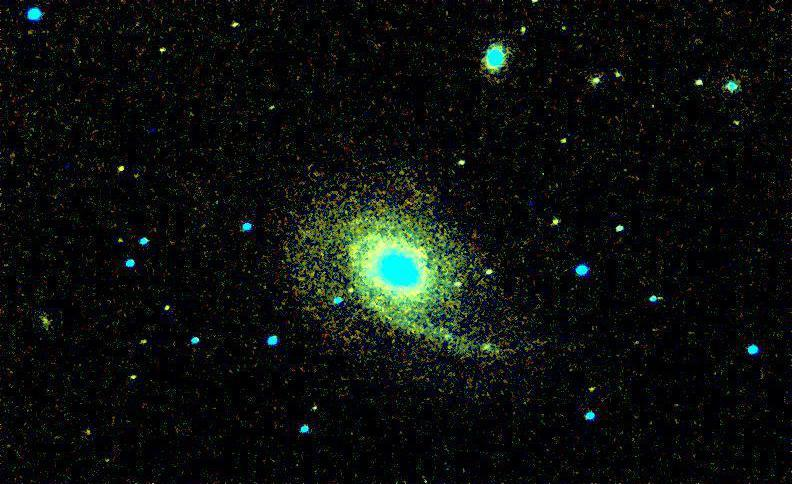star: (105, 155, 135, 185)
